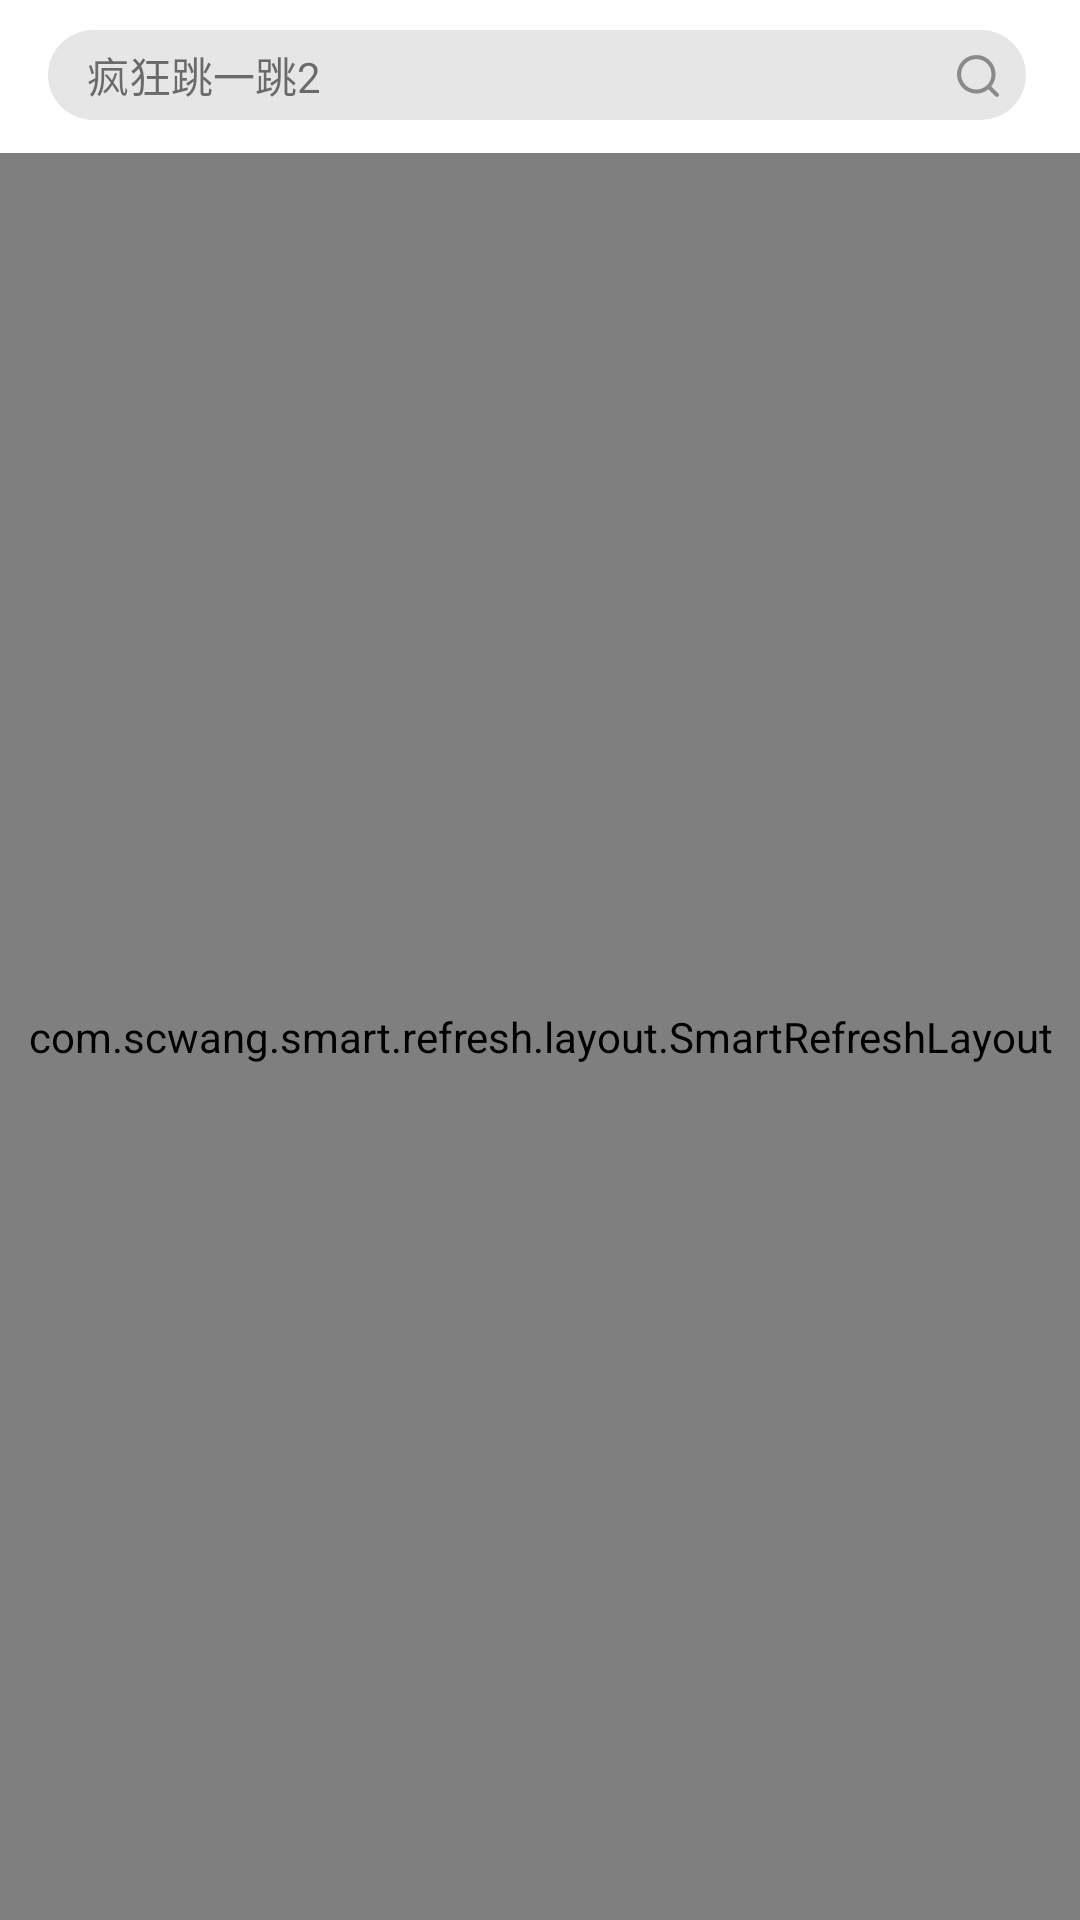

Named icons in this screenshot (1080px×1920px) and their centers, (x=x, y=y):
search: (x=978, y=76)
